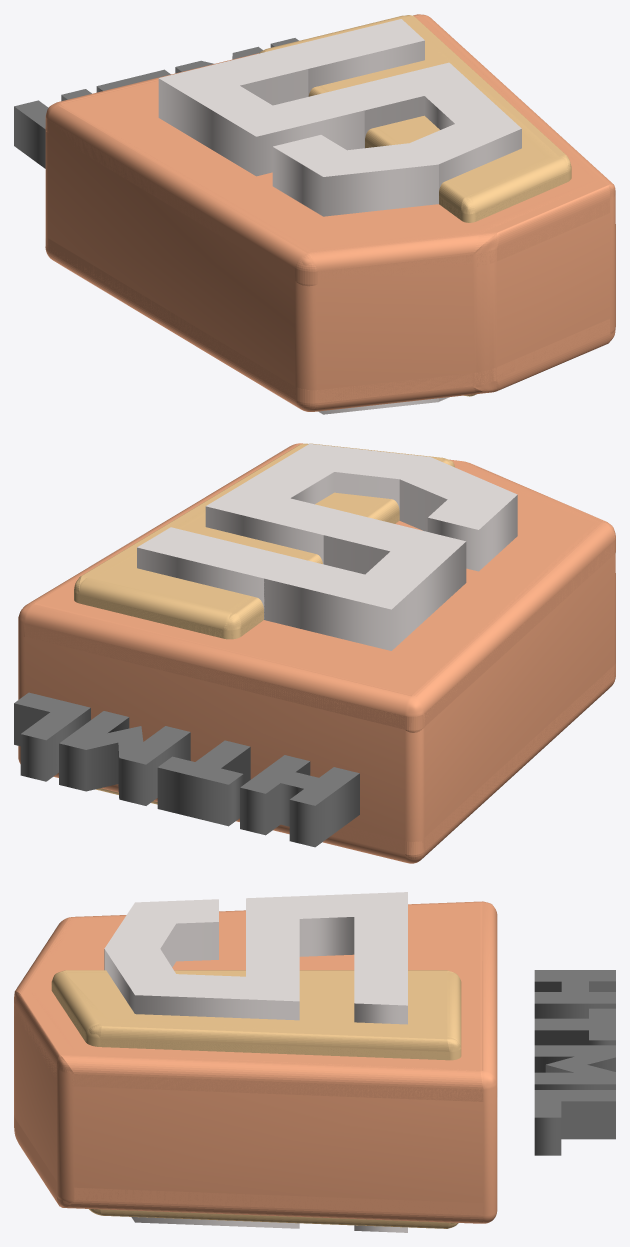
Rendered from html.fbx.
The picture shows the model from 3 angles, top to bottom: view 1: azimuth 30°, elevation 25°; view 2: azimuth 150°, elevation 25°; view 3: azimuth 270°, elevation 25°; orthographic projection. The views are drawn at different scales.
Parts seen in each view (by area): view 1: Curve.001, Curve.003, Curve.004, Curve.002, Curve; view 2: Curve.001, Curve.003, Curve, Curve.004, Curve.002; view 3: Curve.001, Curve.002, Curve.004, Curve.003, Curve.
Part boxes in pixels (x1=…): Curve.001: x1=45, y1=14, x2=615, y2=411; Curve.003: x1=158, y1=48, x2=438, y2=414; Curve.004: x1=280, y1=19, x2=521, y2=401; Curve.002: x1=259, y1=15, x2=571, y2=396; Curve: x1=14, y1=38, x2=298, y2=168; Curve.001: x1=18, y1=443, x2=615, y2=863; Curve.003: x1=264, y1=457, x2=517, y2=650; Curve: x1=14, y1=692, x2=359, y2=847; Curve.004: x1=137, y1=444, x2=429, y2=618; Curve.002: x1=74, y1=443, x2=454, y2=804; Curve.001: x1=14, y1=901, x2=497, y2=1223; Curve.002: x1=51, y1=970, x2=461, y2=1228; Curve.004: x1=104, y1=948, x2=407, y2=1232; Curve.003: x1=104, y1=892, x2=407, y2=969; Curve: x1=534, y1=970, x2=615, y2=1155.
Size of the model in its own units: 69.58 by 41 by 98.37.
